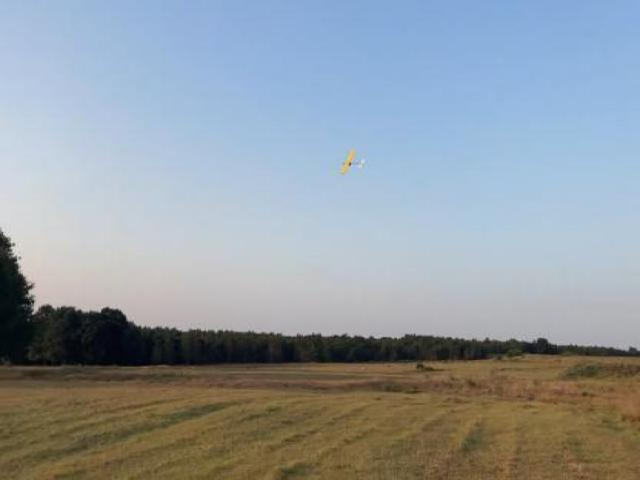uav: (336, 149, 367, 174)
